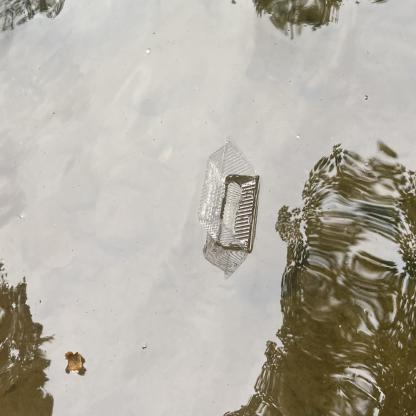trash: (192, 131, 268, 258)
